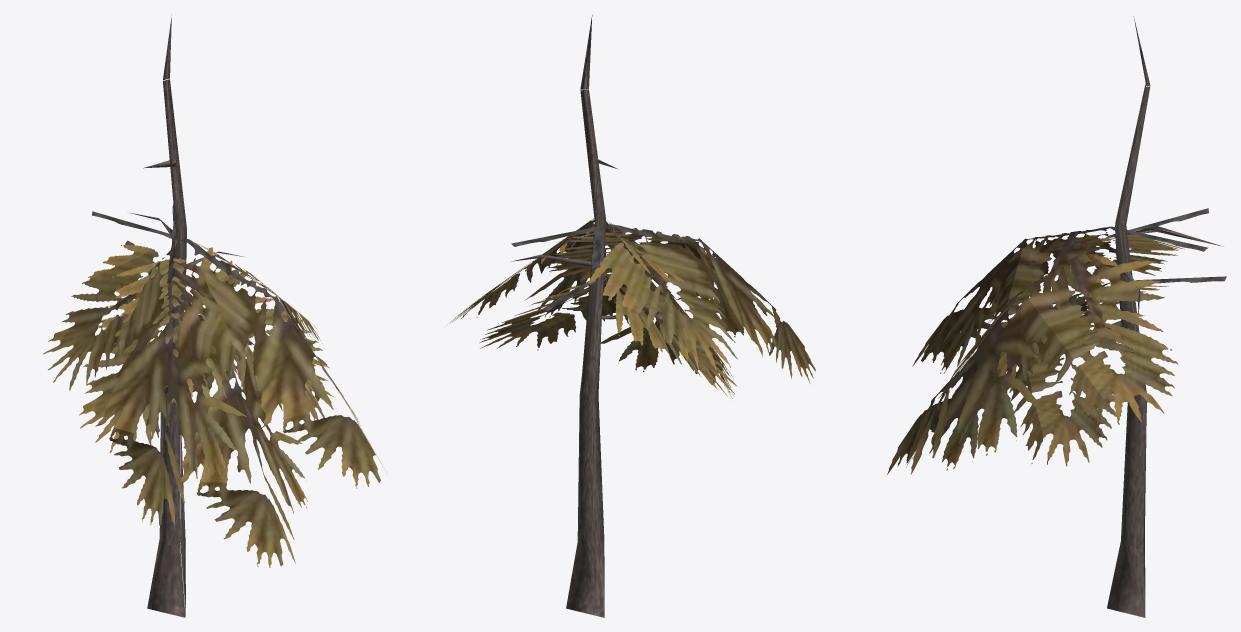
3 renders of one model, left to right at view 1: azimuth 30°, elevation 25°; view 2: azimuth 150°, elevation 25°; view 3: azimuth 270°, elevation 25°, orthographic.
Visible parts, largest first — view 1: tree1; view 2: tree1; view 3: tree1.
Boxes of the visible parts, x1=… form: tree1: x1=43, y1=14, x2=385, y2=617; tree1: x1=447, y1=15, x2=815, y2=617; tree1: x1=887, y1=16, x2=1226, y2=617.
Size of the model in its own units: 4.69 by 8.76 by 4.86.
Materials: 1 (1 with a texture image).
